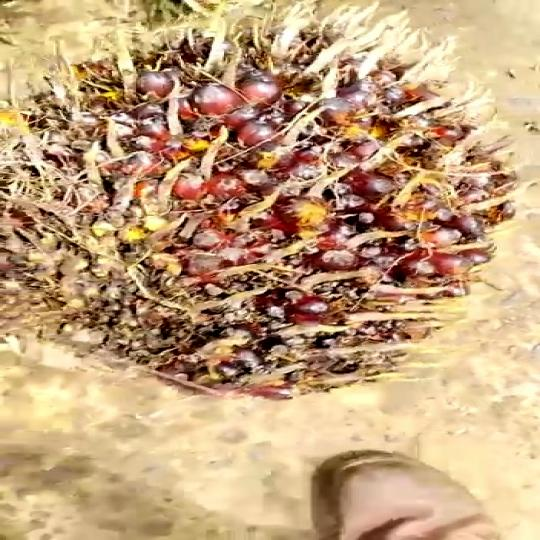masak: (0, 1, 540, 403)
